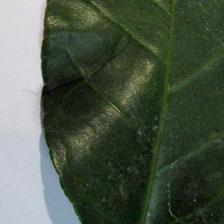healthy: (39, 0, 224, 224)
